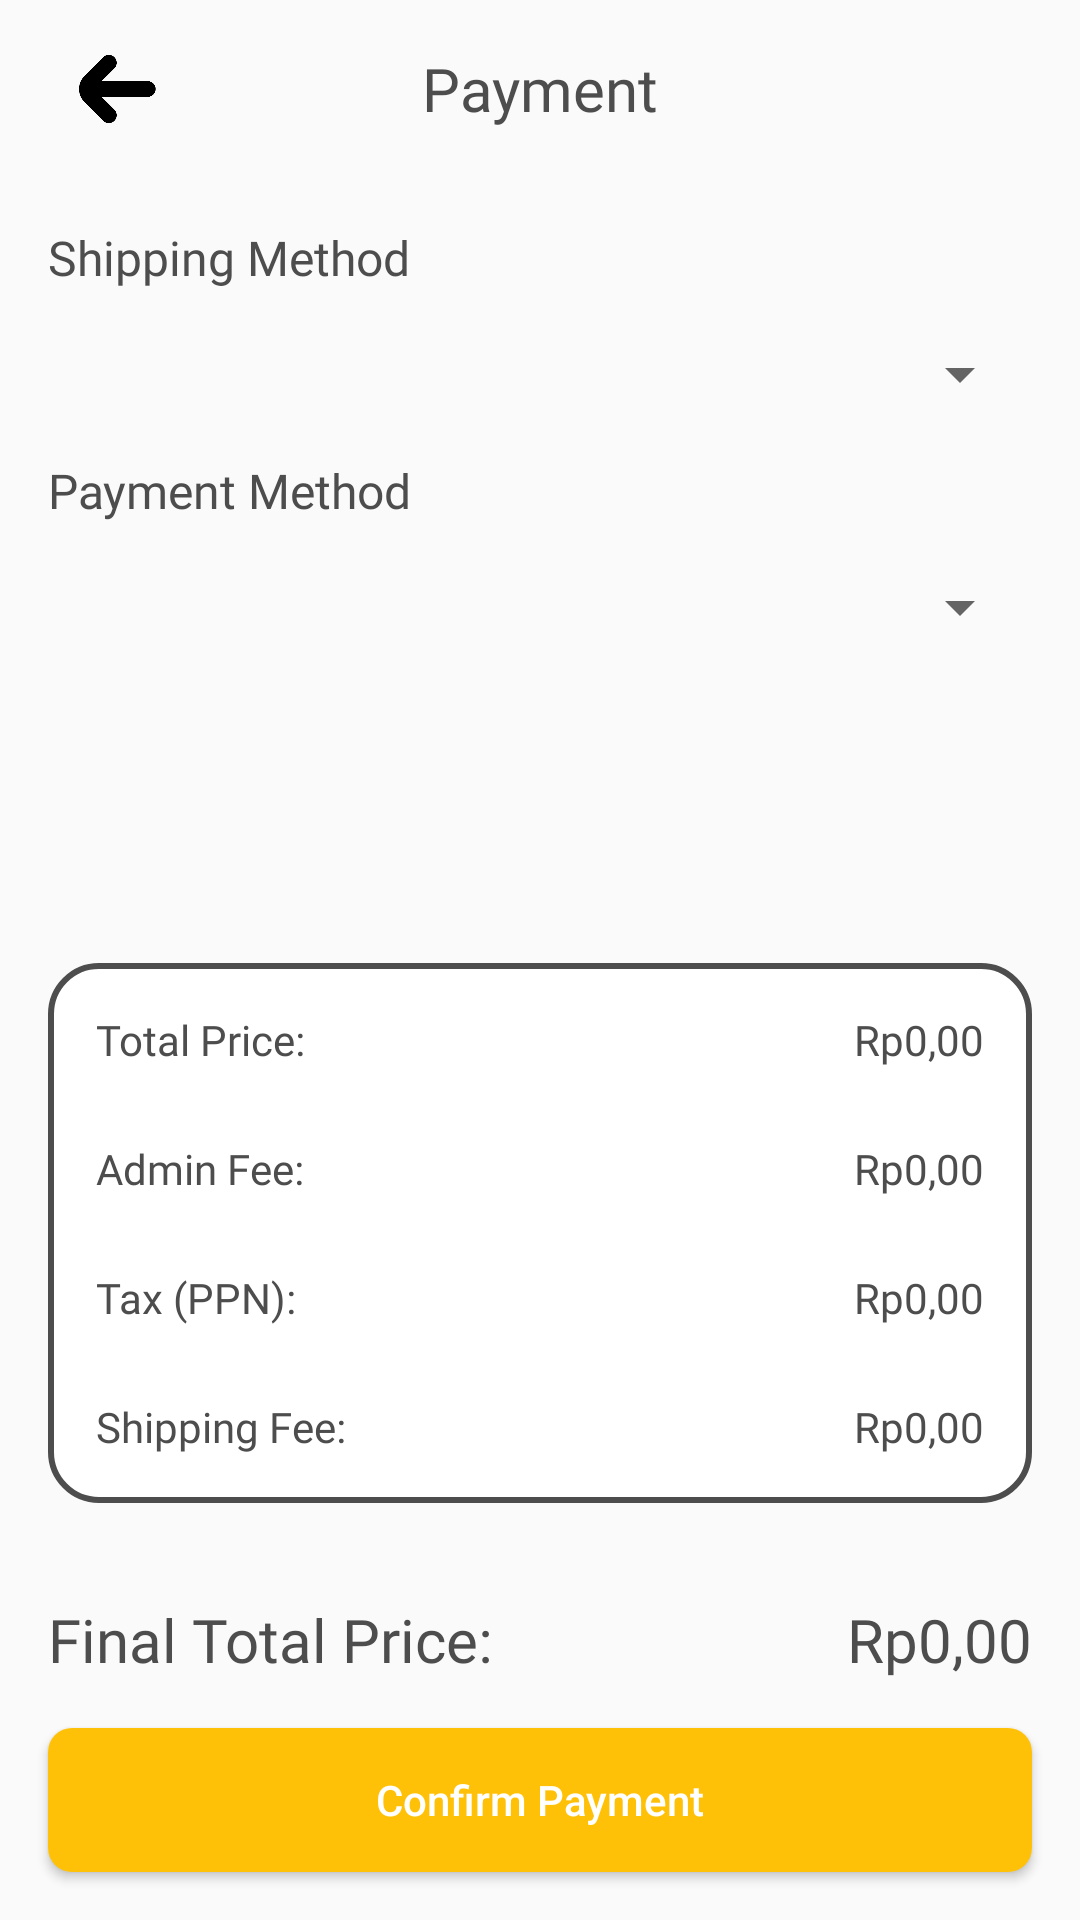

Icon bounding boxes for this 1080 × 1920 phone screenshot, format Rect(x1, y1, x2, y2):
back: Rect(79, 55, 156, 123)
